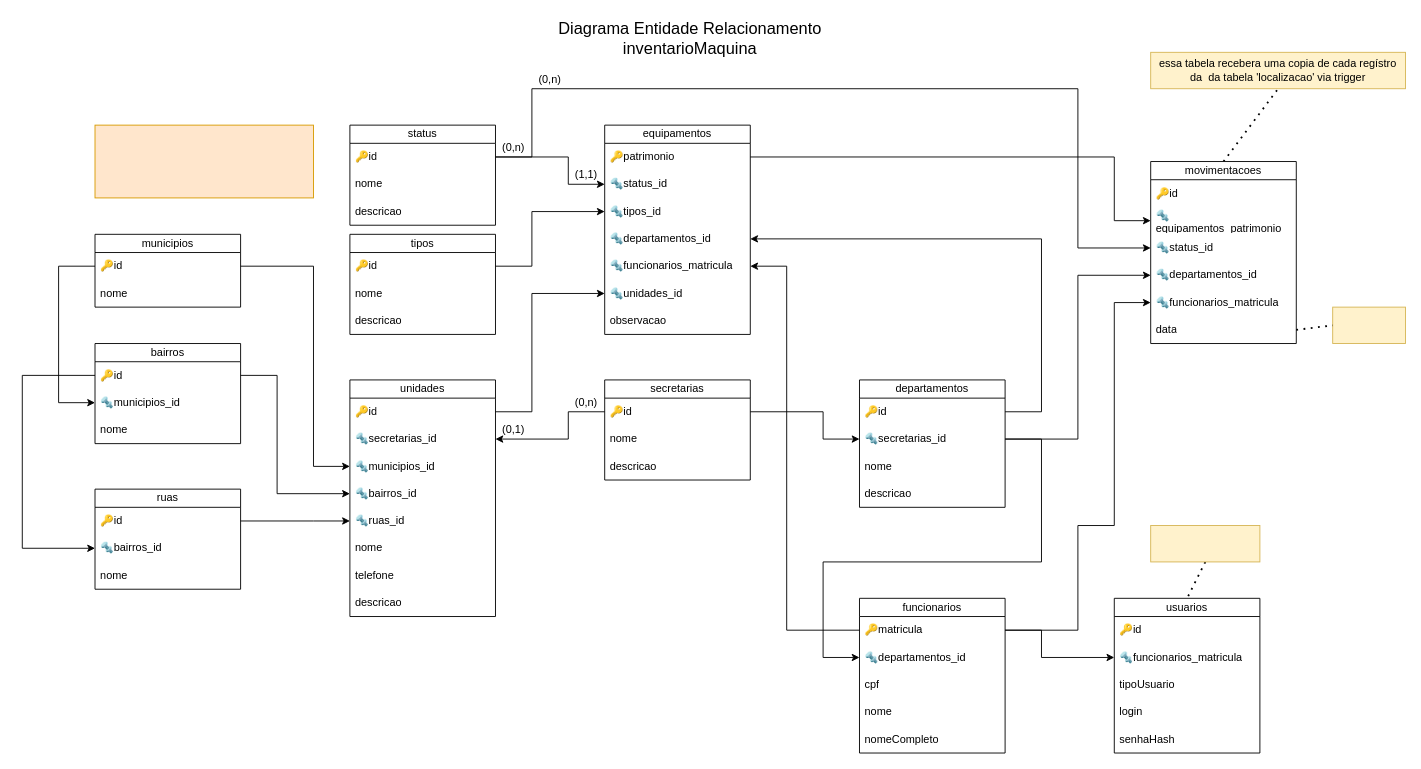
Image size: 1421x769. Some labels were removed from this diagram. Each missing label, with the centre of its shape:
Os nomes das tabelas, e por consequência das FKs, foram postos no plural: pixel 203 161
Quem vai usar o sistema: pixel 1205 543
timestamp: pixel 1368 325
